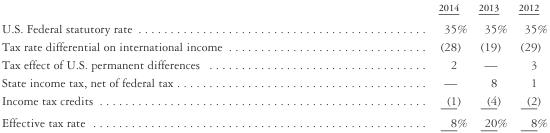table: (0, 1, 547, 129)
table column: (0, 1, 329, 129), (329, 1, 472, 129), (472, 1, 512, 129), (512, 1, 547, 129)
table column header: (0, 1, 547, 16)
table row: (0, 16, 547, 37), (0, 91, 547, 111), (0, 37, 547, 55), (0, 55, 547, 73), (0, 73, 547, 91), (0, 111, 547, 129), (0, 1, 547, 16)
